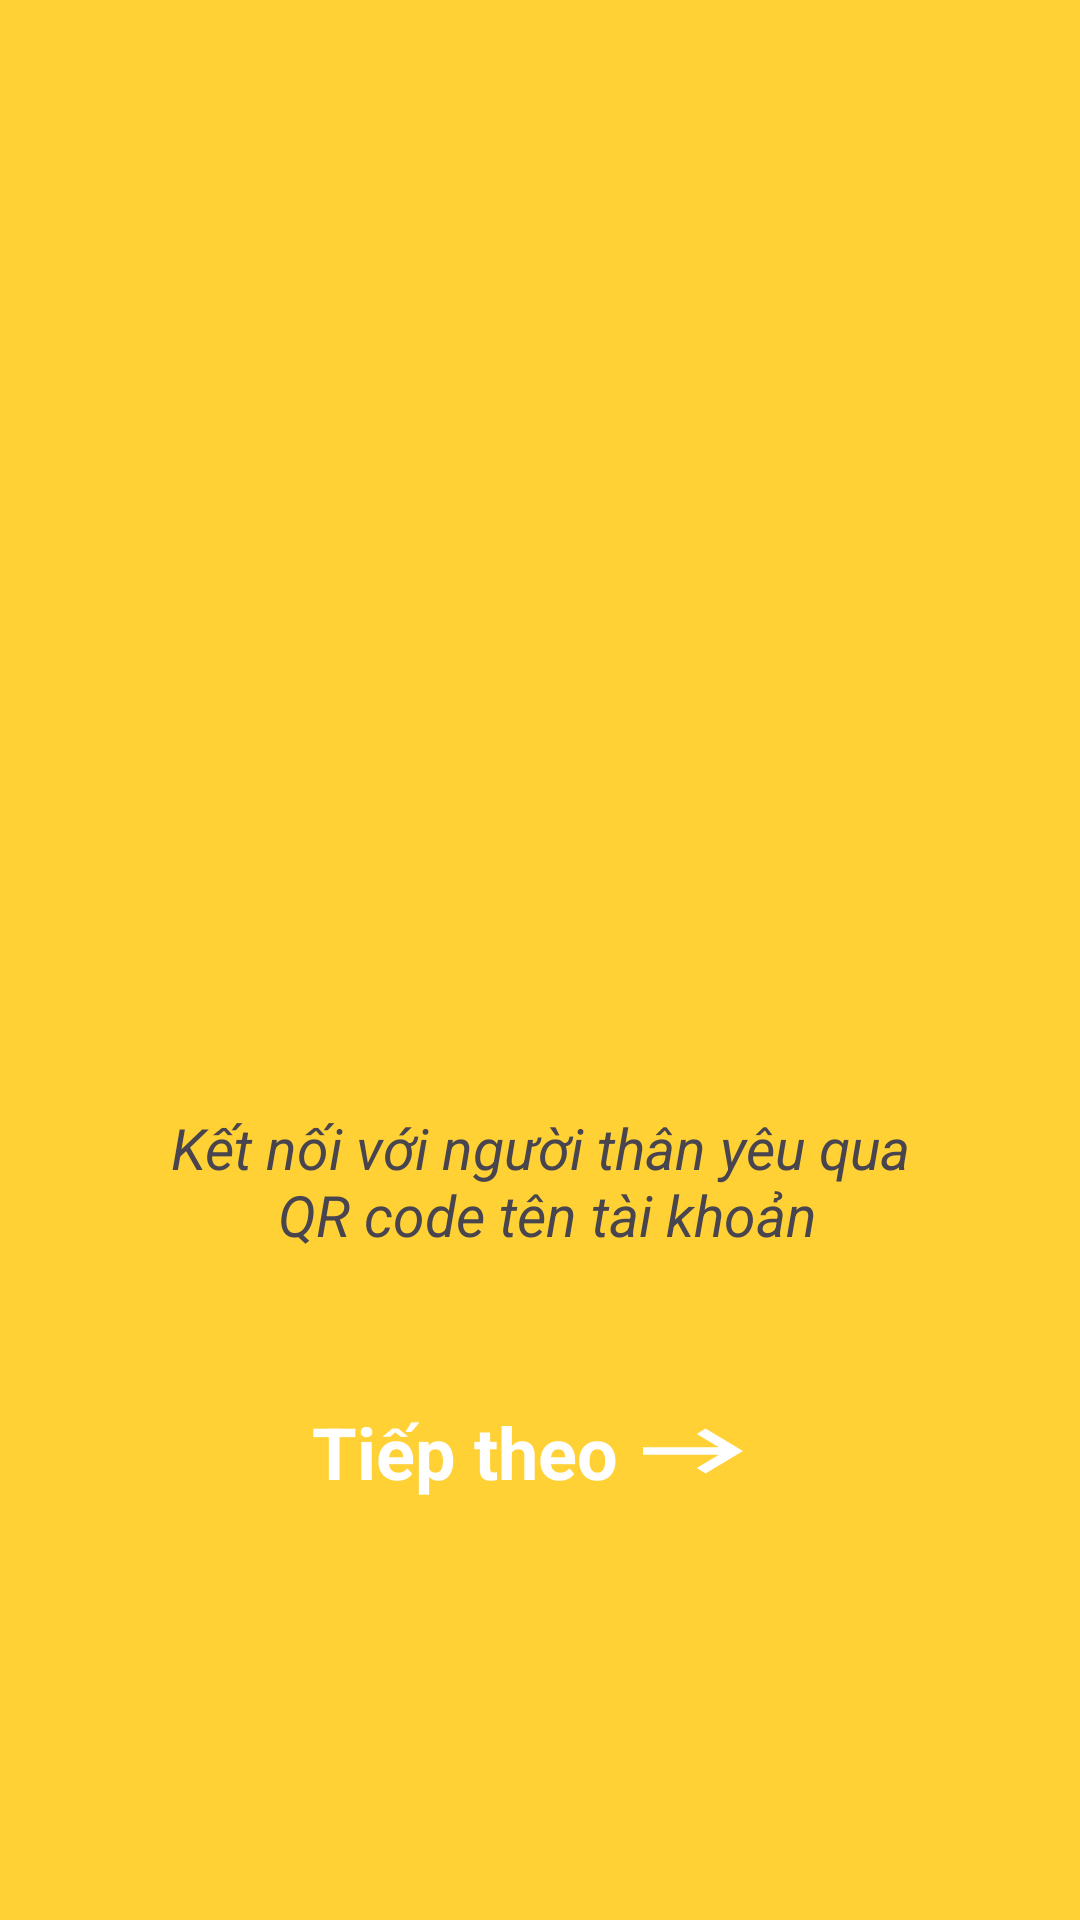

Named icons in this screenshot (1080px x 1920px) and their centers, point (x, y):
continue: point (693, 1451)
